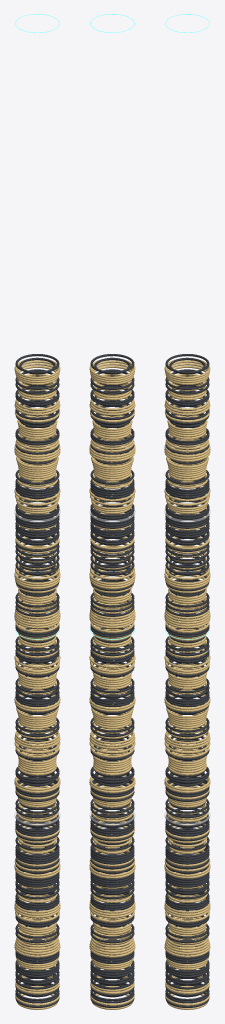
File: weight_of_276_v2.glb
The picture shows the model from 3 angles, left to right: view 1: azimuth 90°, elevation 25°; view 2: azimuth 150°, elevation 25°; view 3: azimuth 270°, elevation 25°; orthographic projection.
Parts seen in each view (by area): view 1: ring_later_275, ring_week1_272, ring_week1_271, ring_later_079, ring_week1_270, ring_week1_273, ring_later_262, ring_week1_130, ring_unknown_211, ring_week1_220, ring_week1_113, ring_later_120 (+106 smaller); view 2: ring_later_275, ring_week1_272, ring_week1_271, ring_later_079, ring_week1_273, ring_week1_270, ring_later_262, ring_week1_220, ring_week1_130, ring_unknown_211, ring_week1_113, ring_later_120 (+115 smaller); view 3: ring_later_275, ring_week1_272, ring_week1_271, ring_later_079, ring_week1_270, ring_week1_273, ring_later_262, ring_week1_130, ring_unknown_211, ring_week1_220, ring_week1_113, ring_later_120 (+106 smaller).
Part boxes in pixels (left/top/right/bottom): ring_later_275: left=15, top=354, right=59, bottom=373; ring_week1_272: left=14, top=360, right=60, bottom=380; ring_week1_271: left=15, top=363, right=59, bottom=382; ring_later_079: left=15, top=808, right=59, bottom=827; ring_week1_270: left=16, top=365, right=58, bottom=385; ring_week1_273: left=14, top=360, right=60, bottom=378; ring_later_262: left=15, top=385, right=59, bottom=403; ring_week1_130: left=14, top=689, right=60, bottom=709; ring_unknown_211: left=14, top=502, right=60, bottom=522; ring_week1_220: left=14, top=481, right=60, bottom=501; ring_week1_113: left=14, top=728, right=60, bottom=749; ring_later_120: left=15, top=714, right=59, bottom=732; ring_later_275: left=90, top=354, right=134, bottom=373; ring_week1_272: left=90, top=360, right=134, bottom=380; ring_week1_271: left=90, top=363, right=134, bottom=382; ring_later_079: left=90, top=808, right=134, bottom=827; ring_week1_273: left=89, top=359, right=135, bottom=378; ring_week1_270: left=91, top=365, right=133, bottom=384; ring_later_262: left=90, top=385, right=134, bottom=403; ring_week1_220: left=89, top=481, right=135, bottom=501; ring_week1_130: left=89, top=689, right=135, bottom=709; ring_unknown_211: left=89, top=502, right=135, bottom=522; ring_week1_113: left=89, top=728, right=135, bottom=749; ring_later_120: left=90, top=714, right=134, bottom=732; ring_later_275: left=165, top=354, right=209, bottom=373; ring_week1_272: left=164, top=360, right=210, bottom=380; ring_week1_271: left=165, top=363, right=209, bottom=382; ring_later_079: left=165, top=808, right=209, bottom=827; ring_week1_270: left=166, top=365, right=208, bottom=385; ring_week1_273: left=164, top=360, right=210, bottom=378; ring_later_262: left=165, top=385, right=209, bottom=403; ring_week1_130: left=164, top=689, right=210, bottom=709; ring_unknown_211: left=164, top=502, right=210, bottom=522; ring_week1_220: left=164, top=481, right=210, bottom=501; ring_week1_113: left=164, top=728, right=210, bottom=749; ring_later_120: left=165, top=714, right=209, bottom=732.
Size of what is drawn, in the model's own units: 2.21 by 51.55 by 2.21.
